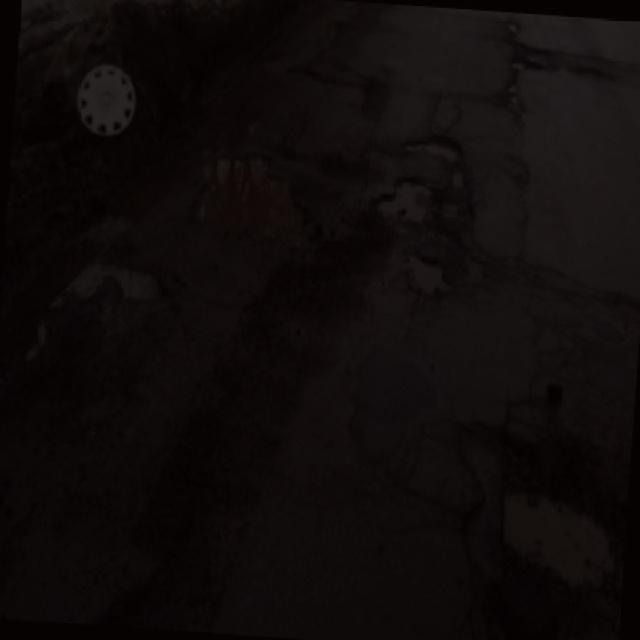Pothole: (428, 401, 640, 631), (193, 142, 342, 252), (26, 250, 183, 318), (498, 18, 550, 121), (367, 166, 442, 223), (406, 130, 472, 172), (407, 246, 451, 308)
